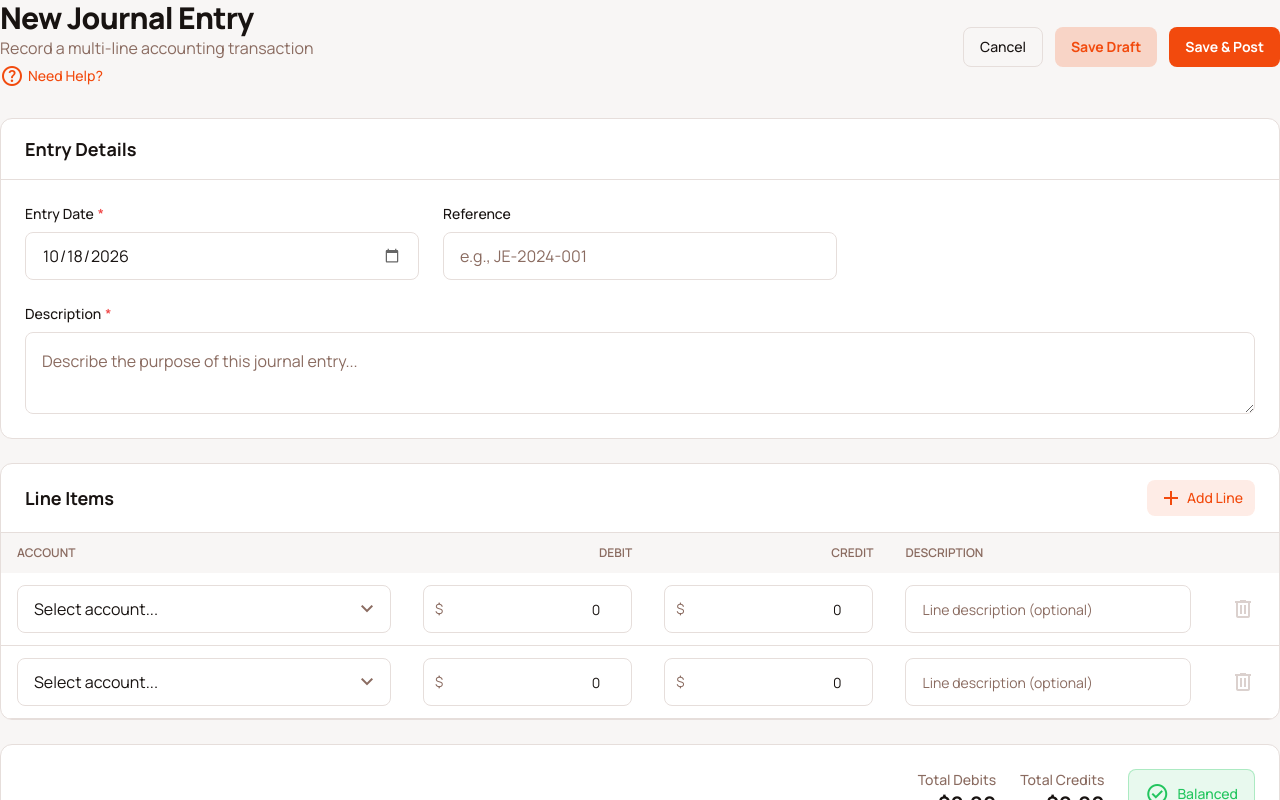
Test: JournalEntryPage validation › never drops below two lines
The width and height of the screenshot is (1280, 800).
Expected: the button with test id "journal-entry-line-0-remove" is disabled, [1223,589,1263,629]
Click the button with test id "journal-entry-add-line-button" at (1201, 498), box [1147,480,1255,516]
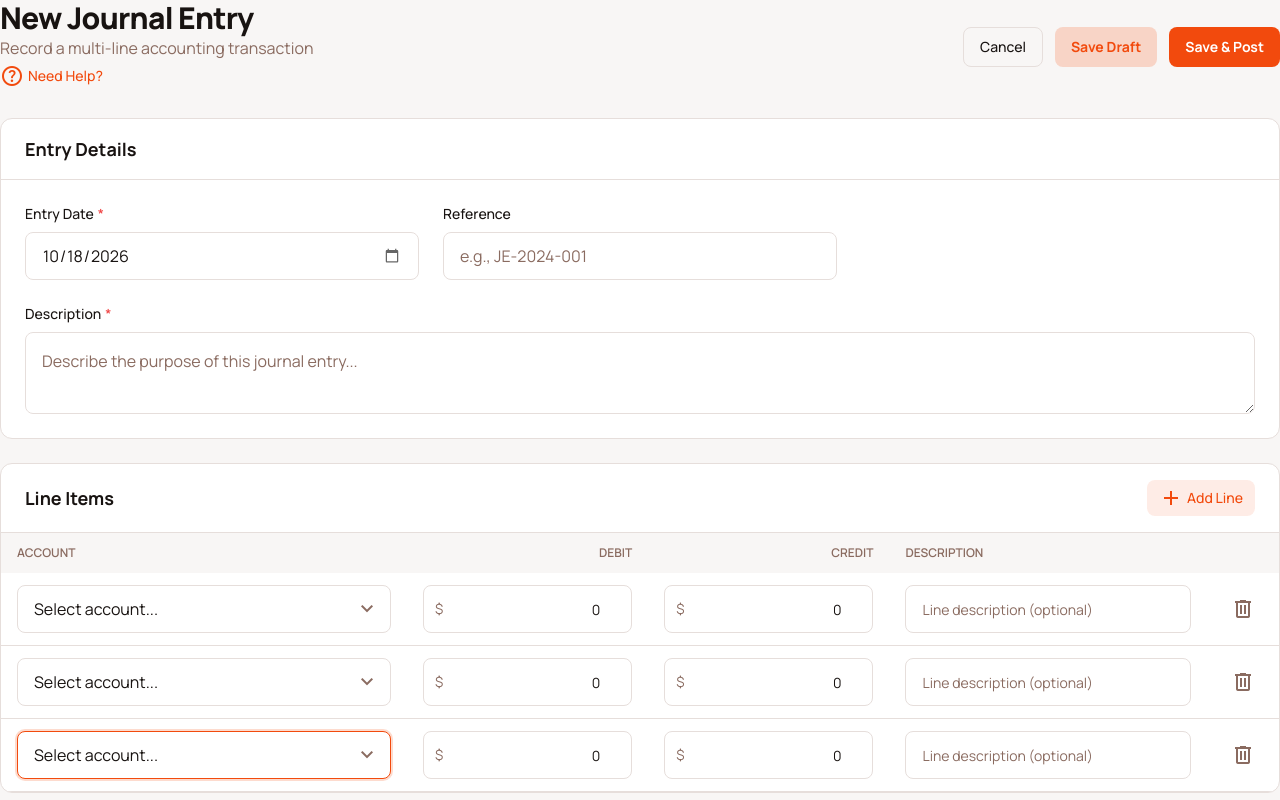
Expected: the button with test id "journal-entry-line-2-remove" is enabled
Click the button with test id "journal-entry-line-2-remove" at (1243, 755), box [1223,735,1263,775]
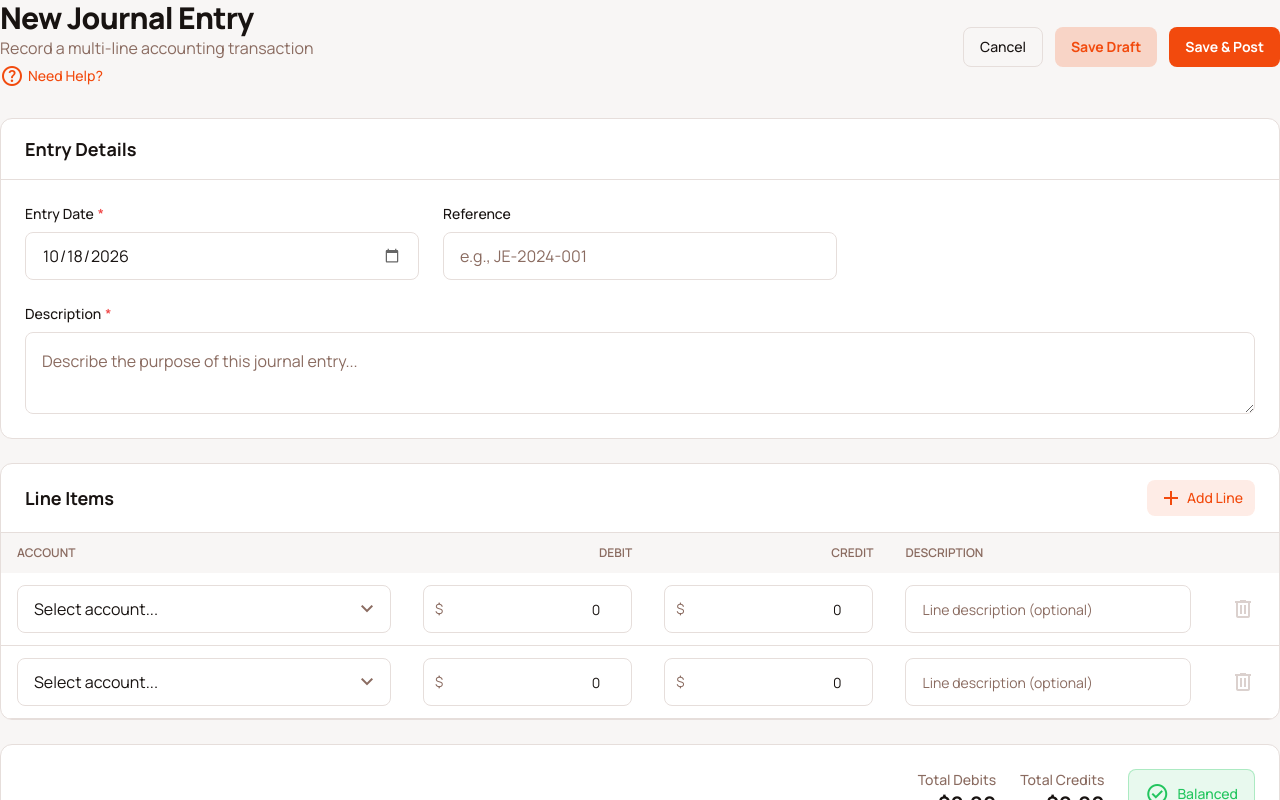
Expected: the row with test id "journal-entry-line-2" is gone
Expected: the button with test id "journal-entry-line-1-remove" is disabled, [1223,662,1263,702]
